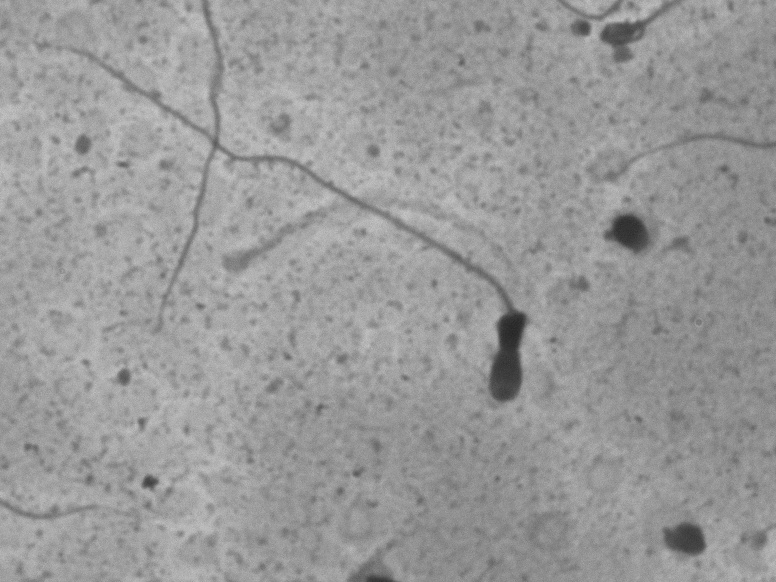Abnormal: (266, 115, 570, 434)
